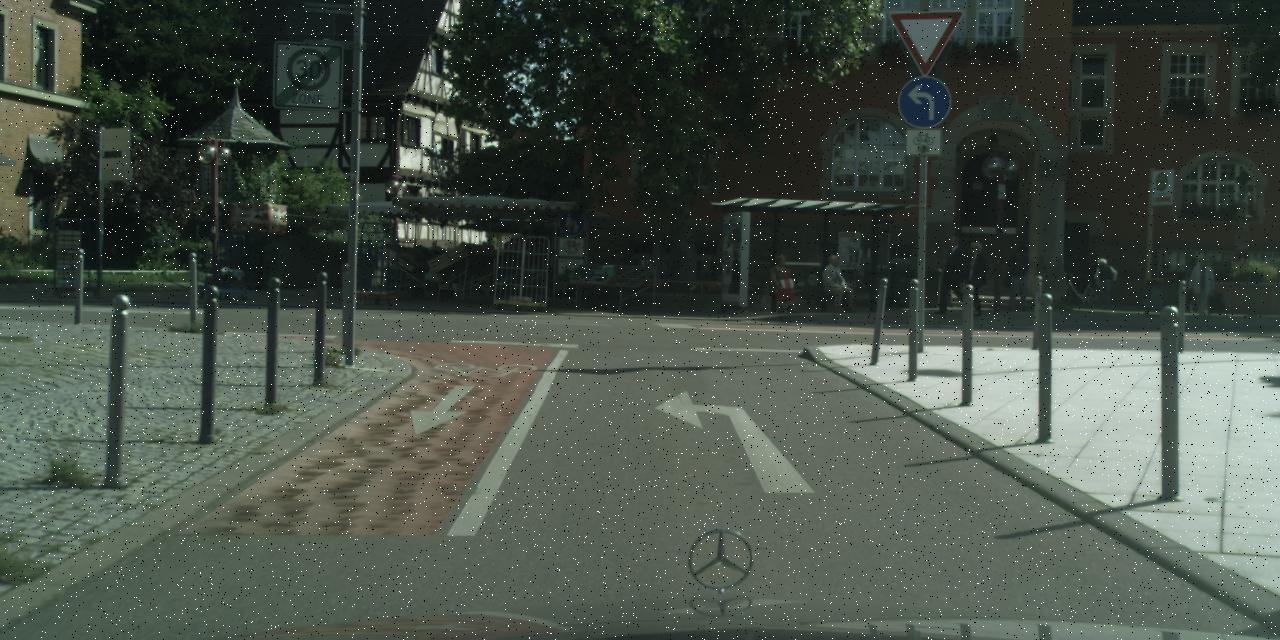ped: (939, 236, 970, 312), (962, 242, 991, 314), (1007, 246, 1032, 310), (1190, 256, 1212, 312), (1181, 257, 1203, 311), (1092, 258, 1112, 308)
